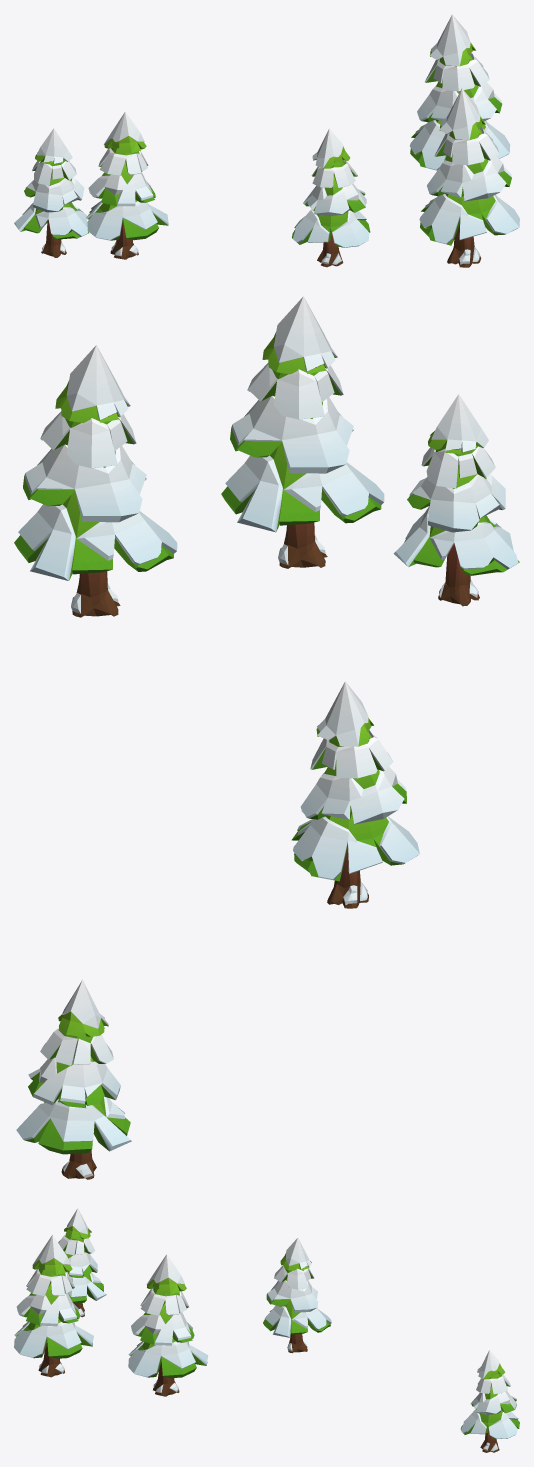
3 views of the same model, one above another, from view 1: azimuth 30°, elevation 25°; view 2: azimuth 150°, elevation 25°; view 3: azimuth 270°, elevation 25° (orthographic). The views are drawn at different scales.
Parts seen in each view (by area): view 1: SnowyTree (9), SnowyTree (7), SnowyTree (6), SnowyTree (10), SnowyTree (8); view 2: SnowyTree (9), SnowyTree (6), SnowyTree (7), SnowyTree (10), SnowyTree (8); view 3: SnowyTree (9), SnowyTree (6), SnowyTree (7), SnowyTree (8), SnowyTree (10).
Part boxes in pixels (bbox=[...]): SnowyTree (9): bbox=[419, 88, 519, 267]; SnowyTree (7): bbox=[86, 112, 168, 259]; SnowyTree (6): bbox=[410, 14, 510, 170]; SnowyTree (10): bbox=[292, 128, 370, 267]; SnowyTree (8): bbox=[14, 128, 88, 257]; SnowyTree (9): bbox=[221, 296, 384, 568]; SnowyTree (6): bbox=[14, 345, 177, 617]; SnowyTree (7): bbox=[291, 681, 419, 908]; SnowyTree (10): bbox=[393, 394, 519, 606]; SnowyTree (8): bbox=[16, 980, 131, 1179]; SnowyTree (9): bbox=[14, 1235, 93, 1377]; SnowyTree (6): bbox=[128, 1254, 208, 1396]; SnowyTree (7): bbox=[263, 1238, 331, 1353]; SnowyTree (8): bbox=[460, 1349, 519, 1452]; SnowyTree (10): bbox=[58, 1208, 106, 1317].
Bounding box in the file's own units: 507 × 500 × 849.
Materials: 1 (1 with a texture image).
